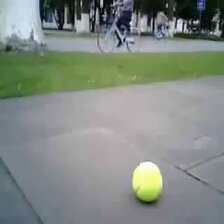tennis: (132, 161, 163, 204)
